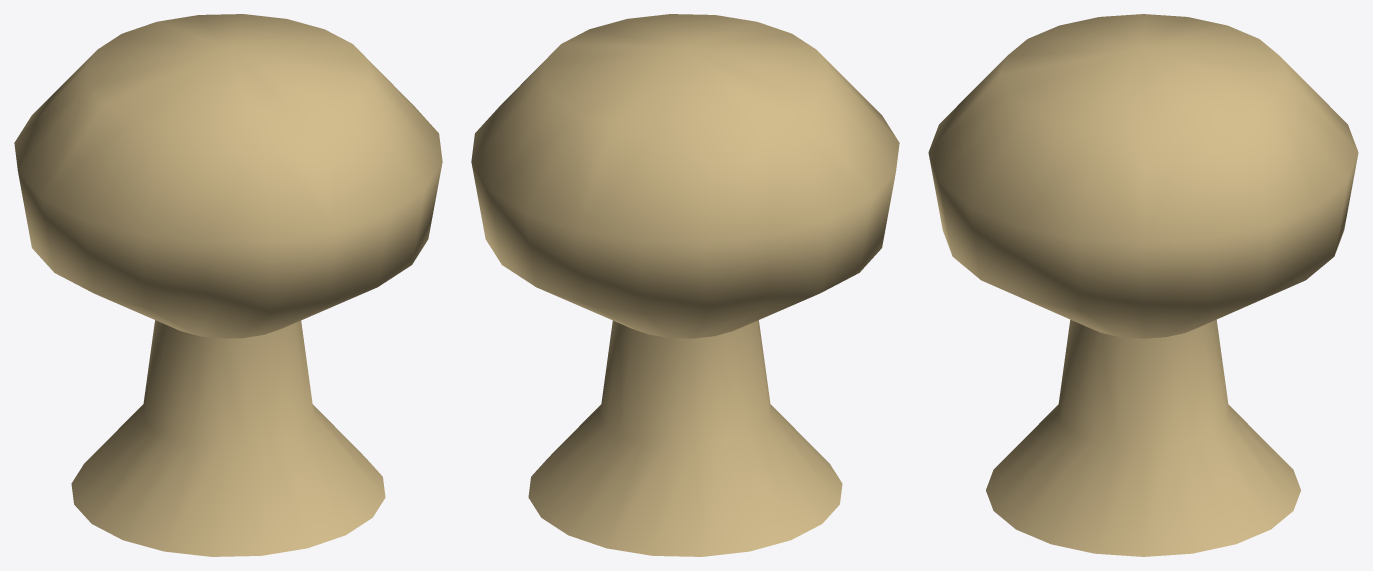
The model's file is lp_knob.glb.
The picture shows the model from 3 angles, left to right: view 1: azimuth 30°, elevation 25°; view 2: azimuth 150°, elevation 25°; view 3: azimuth 270°, elevation 25°; orthographic projection.
Parts seen in each view (by area): view 1: lp_knob; view 2: lp_knob; view 3: lp_knob.
Boxes of the visible parts, x1,y1,x2,y2 form: lp_knob: (14,14,442,556); lp_knob: (471,14,899,556); lp_knob: (928,14,1358,556).
Bounding box in the file's own units: 0.03 × 0.034 × 0.03.
